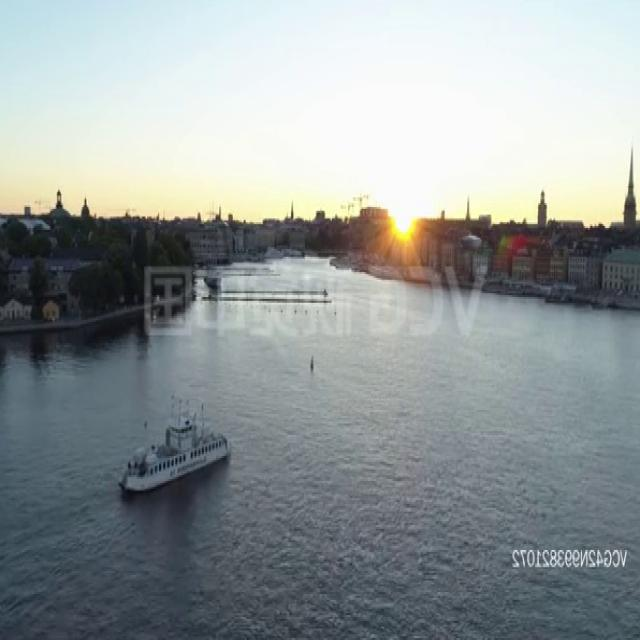passenger ship: (117, 392, 232, 488)
